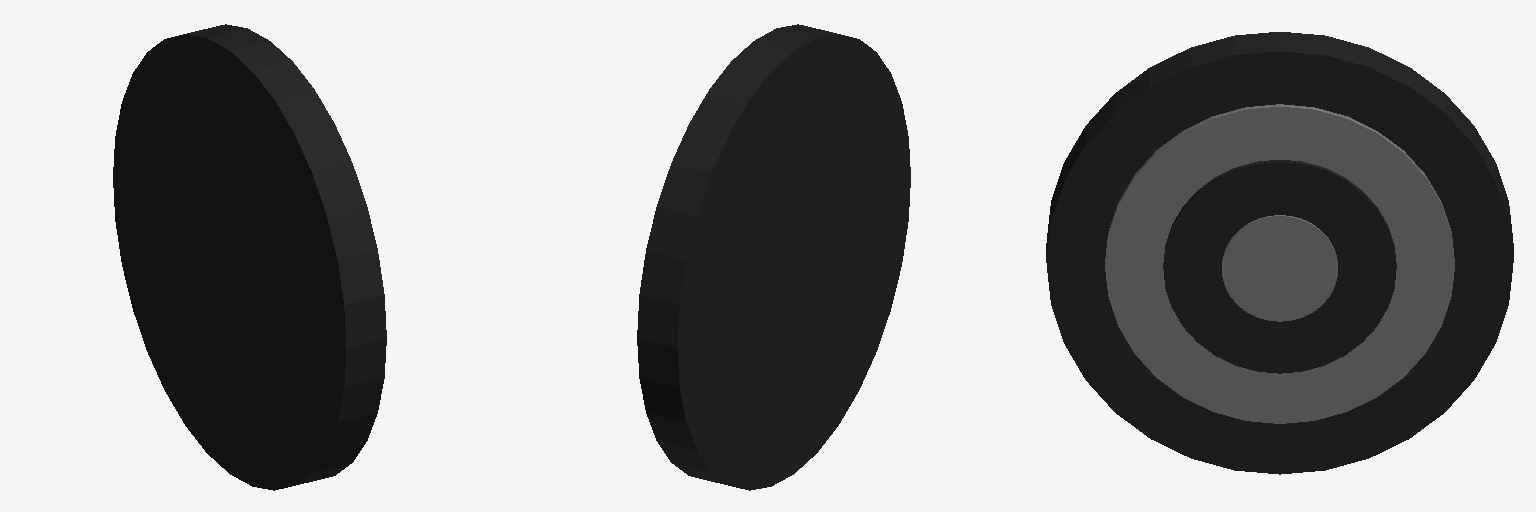
Rendered from target_hit.obj.
3 renders of one model, left to right at view 1: azimuth 30°, elevation 25°; view 2: azimuth 150°, elevation 25°; view 3: azimuth 270°, elevation 25°, orthographic.
Visible parts, largest first — view 1: Cylinder; view 2: Cylinder; view 3: Cylinder, Cylinder.001, Cylinder.002, Cylinder.003.
Boxes of the visible parts, x1,y1,x2,y2 form: Cylinder: [113, 24, 386, 490]; Cylinder: [637, 24, 910, 490]; Cylinder: [1046, 32, 1513, 474]; Cylinder.001: [1105, 104, 1454, 423]; Cylinder.002: [1163, 160, 1396, 373]; Cylinder.003: [1222, 215, 1337, 321].
Size of the model in its own units: 0.26 by 2 by 2.